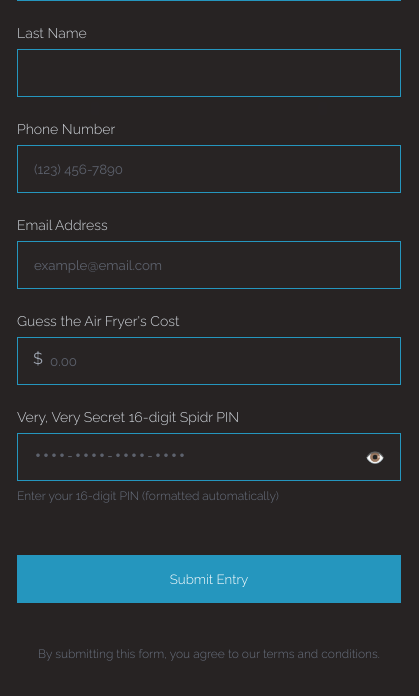
Test: SpidrForm Component › shows validation errors for empty required fields
(page scrolled)
Click the button "Submit Entry" at coordinates (209, 579), box [17, 555, 401, 603]
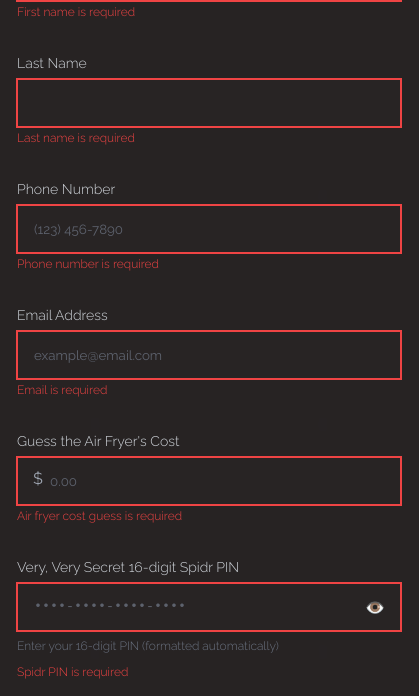
Result: the text "First name is required" is shown at [17, 5, 135, 19]
Result: the text "Last name is required" is shown at [17, 131, 135, 145]
Result: the text "Phone number is required" is shown at [17, 257, 159, 271]
